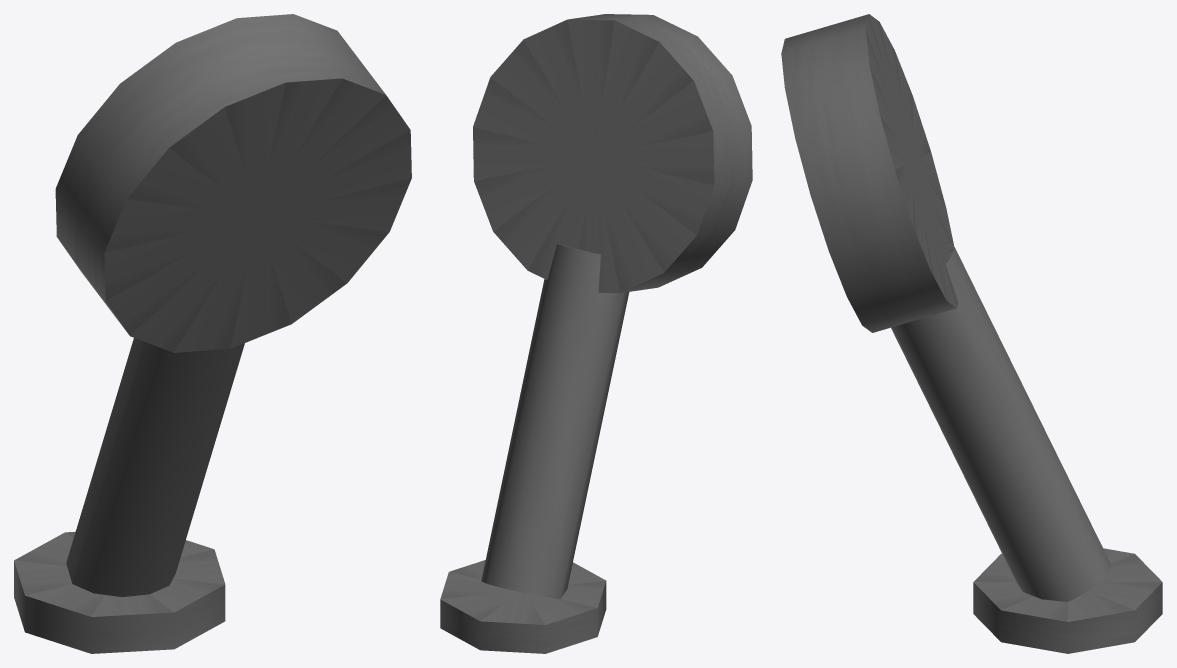
The model's file is mastarmcurve_6x2_c4_down.obj.
3 views of the same model, side by side, from view 1: azimuth 30°, elevation 25°; view 2: azimuth 150°, elevation 25°; view 3: azimuth 270°, elevation 25° (orthographic). The views are drawn at different scales.
Parts seen in each view (by area): view 1: mastarm_6x2_c4_down; view 2: mastarm_6x2_c4_down; view 3: mastarm_6x2_c4_down.
Boxes of the visible parts, x1,y1,x2,y2 form: mastarm_6x2_c4_down: [14, 14, 411, 653]; mastarm_6x2_c4_down: [440, 14, 752, 653]; mastarm_6x2_c4_down: [781, 14, 1162, 653].
Size of the model in its own units: 0.649 by 1.36 by 0.8059.
